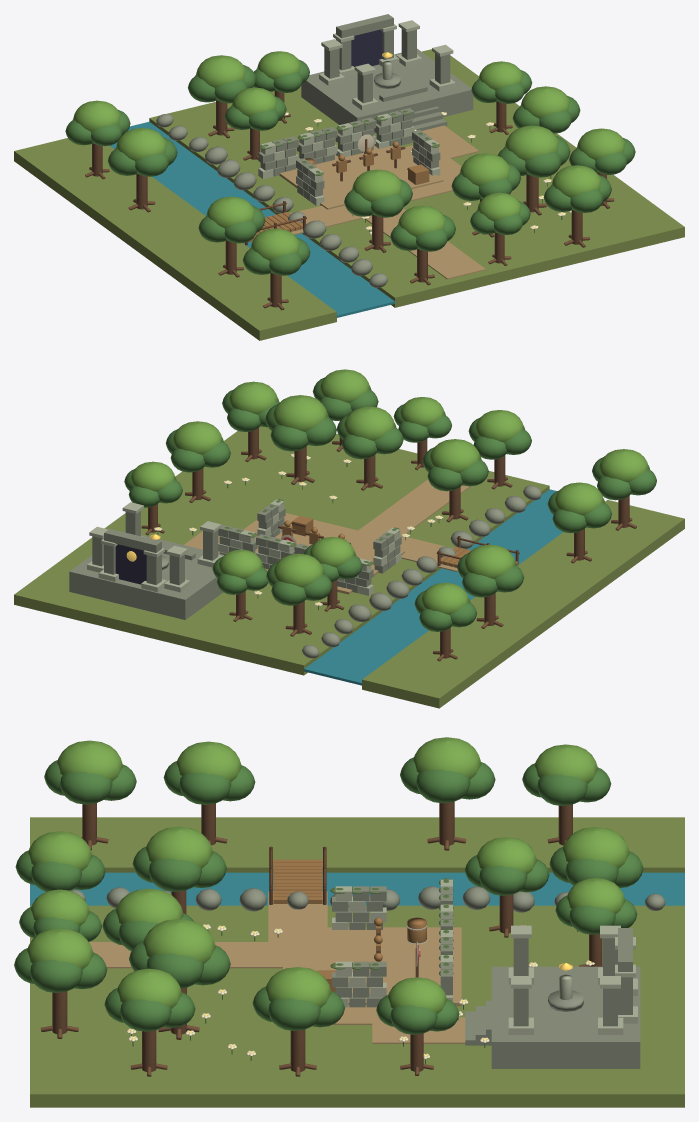
File: verdant_restored.glb
The picture shows the model from 3 angles, top to bottom: view 1: azimuth 30°, elevation 25°; view 2: azimuth 150°, elevation 25°; view 3: azimuth 270°, elevation 25°; orthographic projection. The views are drawn at different scales.
Visible parts, largest first — view 1: east_bank, west_bank, canopy_0 (×16), stream, canopy_4 (×12), boss_grove, walk_path (×4), canopy_1 (×7), training_yard, door, lintel; view 2: east_bank, canopy_0 (×16), west_bank, stream, canopy_3 (×11), boss_grove, walk_path (×3), canopy_1 (×7), door, training_yard, lintel; view 3: east_bank, canopy_0 (×16), west_bank, canopy_2 (×15), boss_grove, stream, canopy_3 (×12), walk_path (×4), training_yard, trunk (×5), column (×3), lintel (+1 smaller).
Part boxes in pixels (x1,y1,x2,y2): east_bank: (149, 49, 684, 307); west_bank: (14, 138, 336, 340); canopy_0 (×16): (73, 51, 625, 260); stream: (110, 121, 394, 317); canopy_4 (×12): (90, 80, 627, 275); boss_grove: (301, 48, 473, 133); walk_path (×4): (290, 125, 485, 279); canopy_1 (×7): (108, 75, 572, 274); training_yard: (279, 144, 443, 209); door: (351, 29, 382, 66); lintel: (336, 14, 393, 38); east_bank: (14, 426, 549, 675); canopy_0 (×16): (130, 369, 649, 614); west_bank: (362, 500, 684, 708); stream: (304, 489, 562, 685); canopy_3 (×11): (170, 408, 631, 631); boss_grove: (69, 530, 224, 619); walk_path (×3): (243, 479, 470, 571); canopy_1 (×7): (202, 417, 656, 600); door: (115, 544, 146, 584); training_yard: (255, 524, 404, 594); lintel: (104, 529, 161, 552); east_bank: (30, 905, 684, 1107); canopy_0 (×16): (27, 737, 629, 1013); west_bank: (30, 817, 684, 872); canopy_2 (×15): (30, 769, 618, 1034); boss_grove: (491, 966, 640, 1068); stream: (30, 872, 684, 905); canopy_3 (×12): (74, 762, 643, 1027); walk_path (×4): (89, 891, 465, 1043); training_yard: (313, 927, 461, 1006); trunk (×5): (52, 801, 454, 1071); column (×3): (513, 938, 617, 1026); lintel: (618, 928, 632, 971).
Bounding box in the file's own units: 22 × 4.51 × 22.54.
